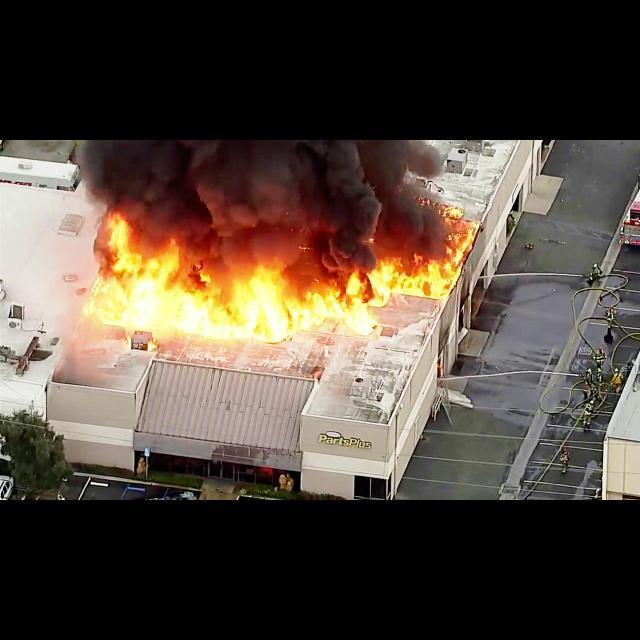Fire: (95, 231, 191, 327), (188, 268, 292, 336), (354, 250, 462, 306), (290, 286, 382, 330)
Smoke: (145, 140, 401, 224)
